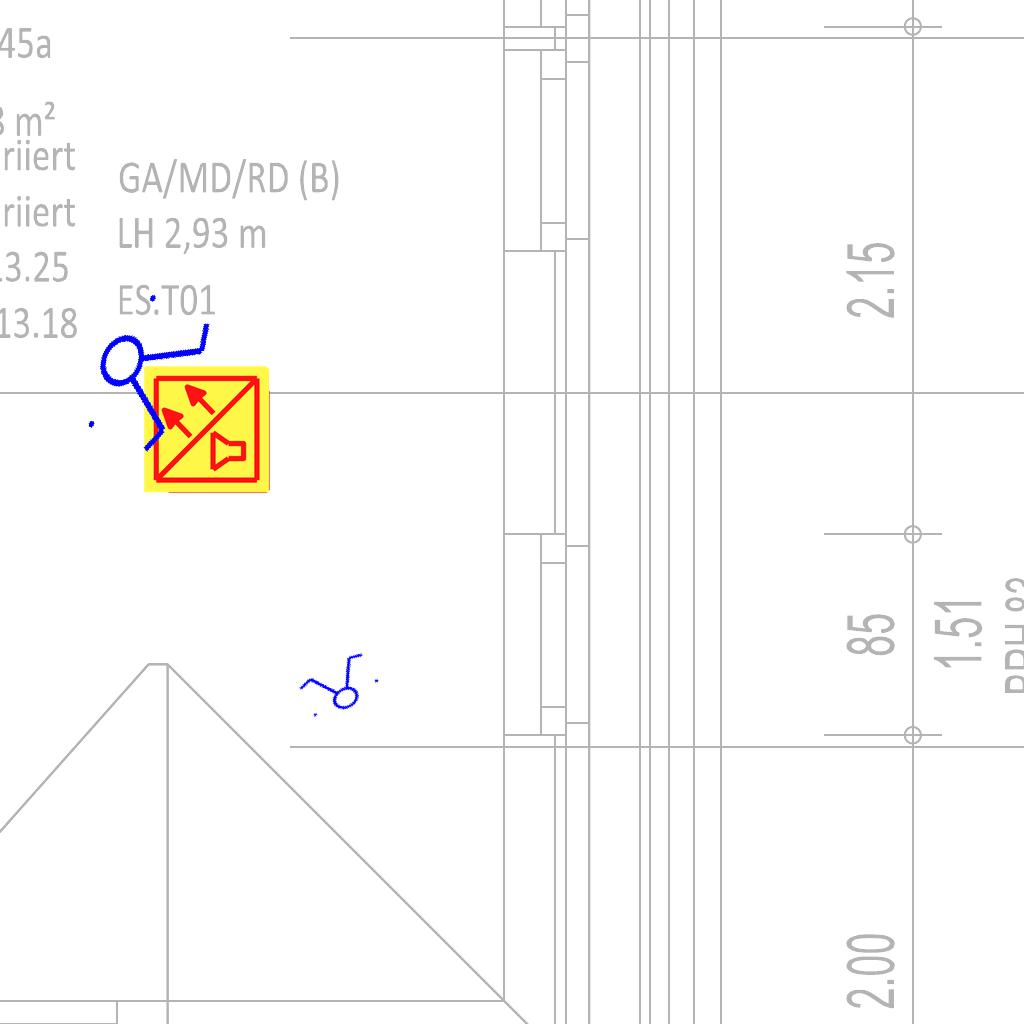OKW_Multisensormelder_(Kombination_optischer_Rauch-Kahlenmonoxid_Waerme-Melder): (141, 363, 273, 495)
Serienschalter: (66, 274, 226, 468), (290, 645, 388, 729)
